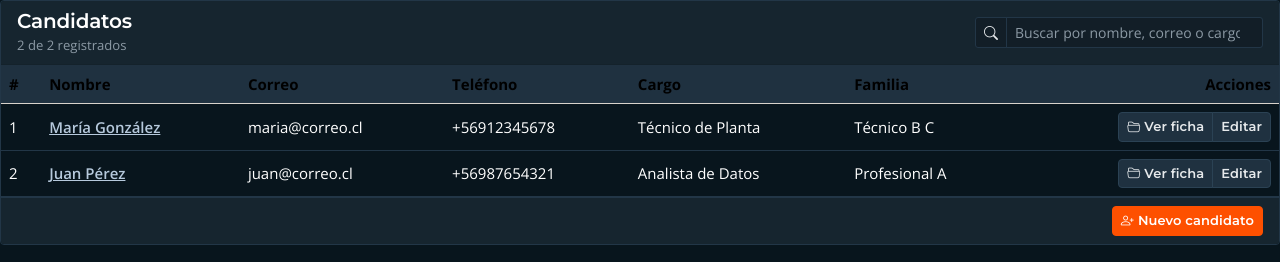
Test: ListaCandidatos › indica cuántos candidatos se están mostrando
Expected: the text "2 de 2 registrados" is shown, [17, 36, 126, 54]
Type "maría" into the search field named "buscar candidato" at x=1134, y=32, box [1006, 17, 1263, 48]
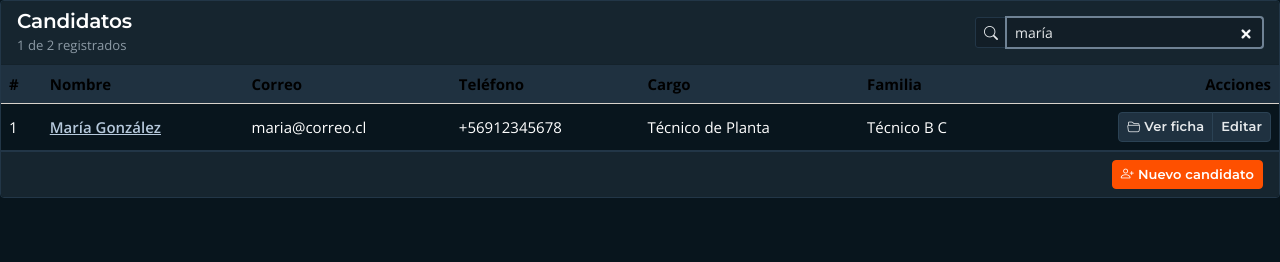
Now the text "1 de 2 registrados" is shown, box [17, 36, 126, 54]
